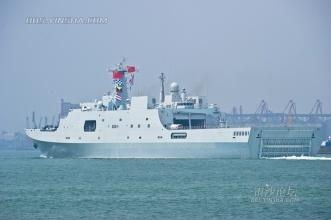warship: (19, 61, 258, 159)
